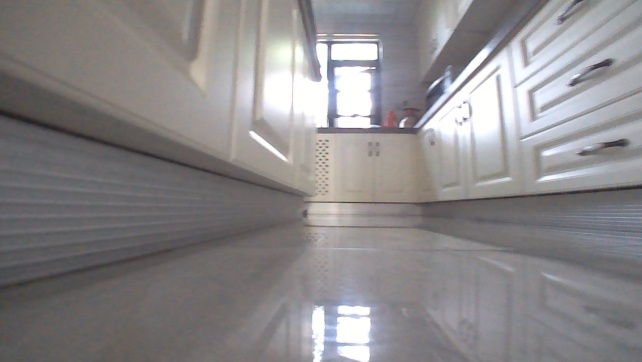cupboard: (0, 0, 641, 289)
